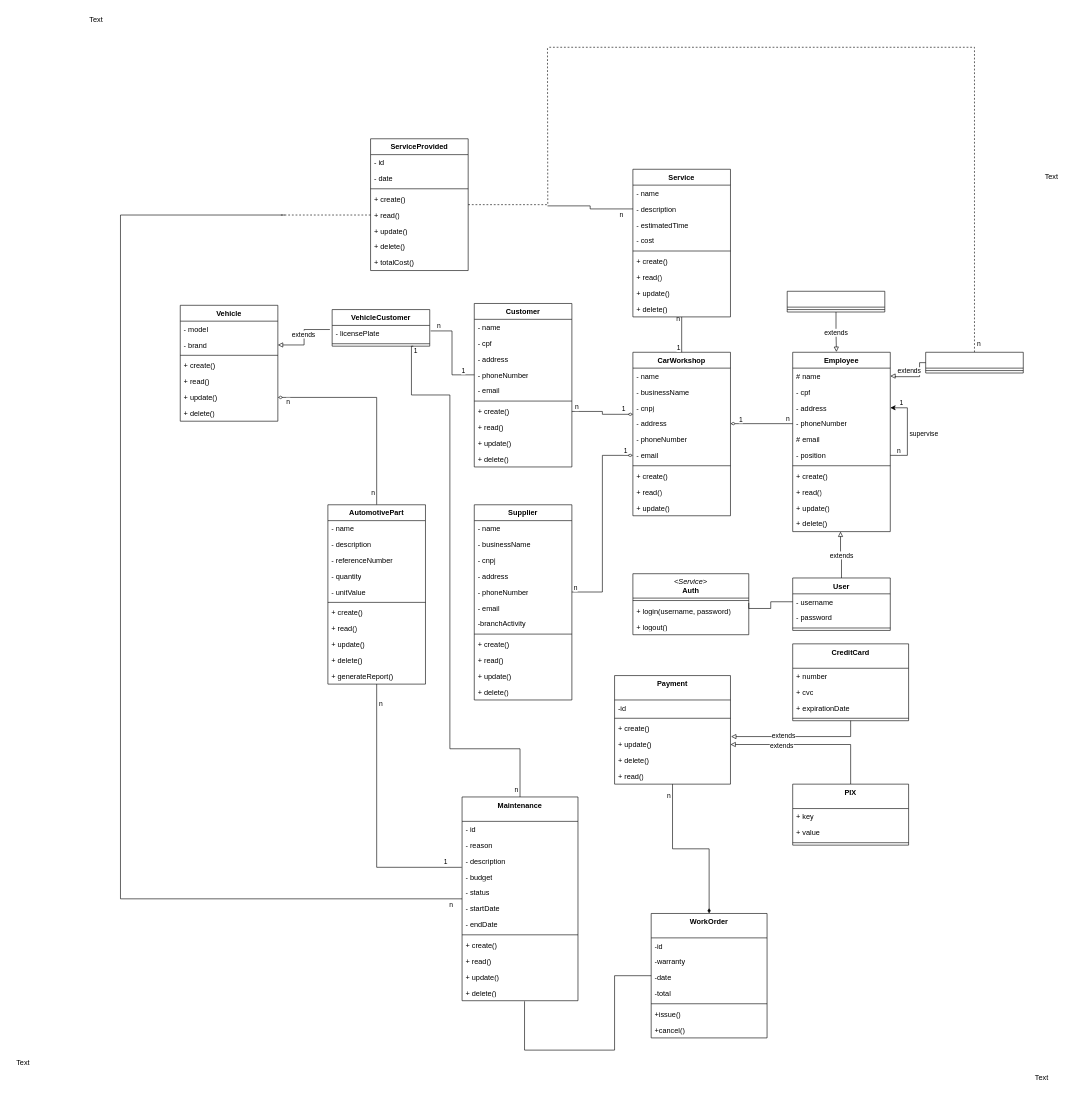
This 1074x1097 diagram has some shape labels left out. Each missing label, with the centre of its shape:
"attendant" belongs at point (836, 301).
"Mechanic" belongs at point (974, 362).
